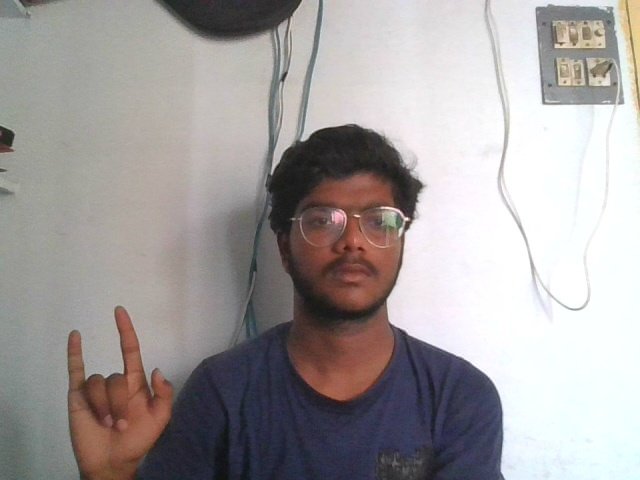IloveYou: (63, 305, 176, 471)
